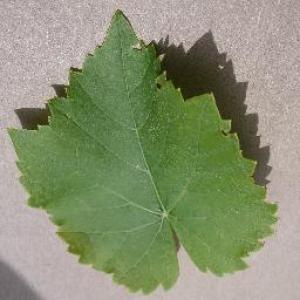Folha: (7, 9, 280, 295)
